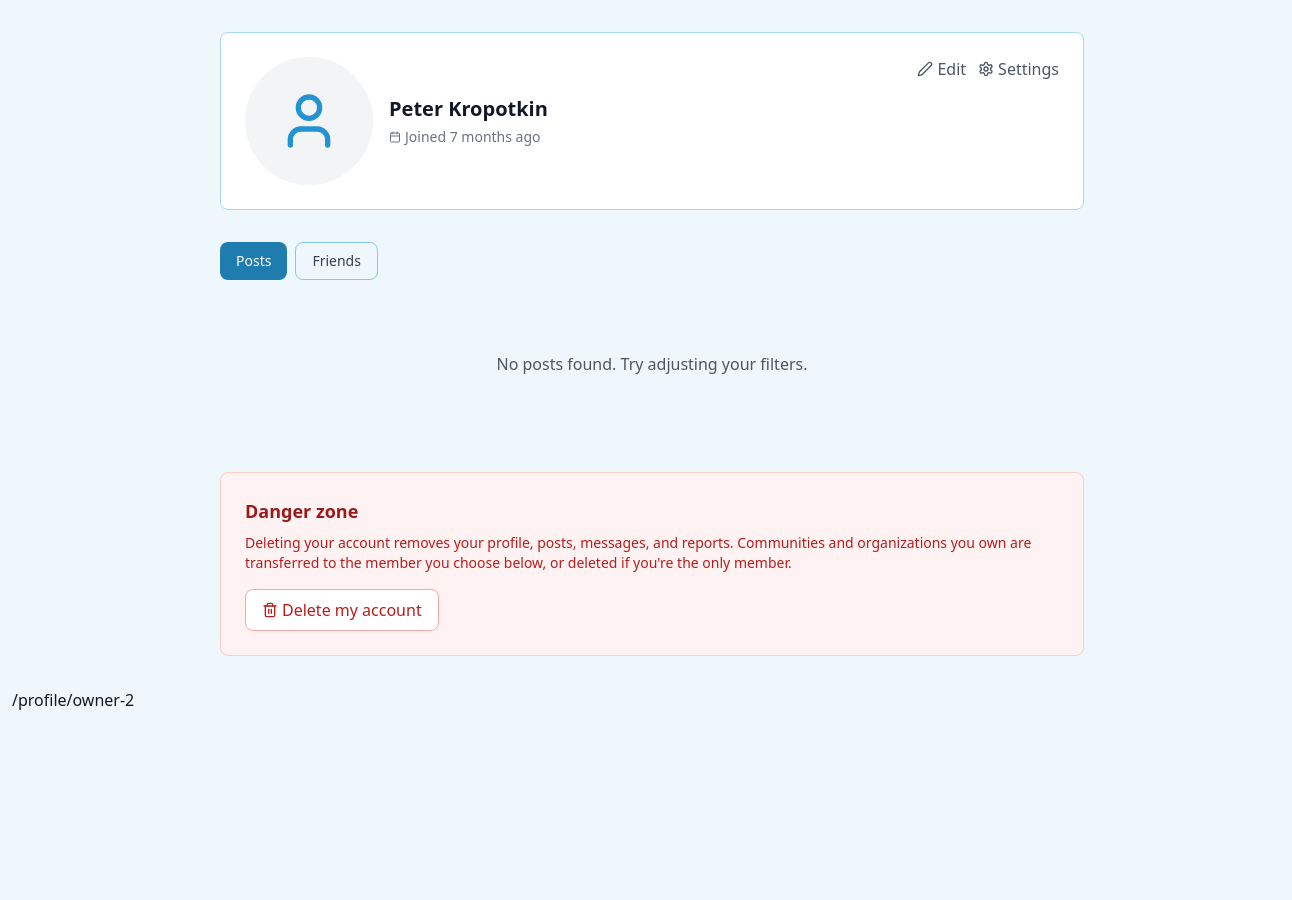
Scenario: ProfilePage delete account › disables the confirm button while the request is in flight
Click the button "Delete my account" at (342, 610), box [245,589,439,631]
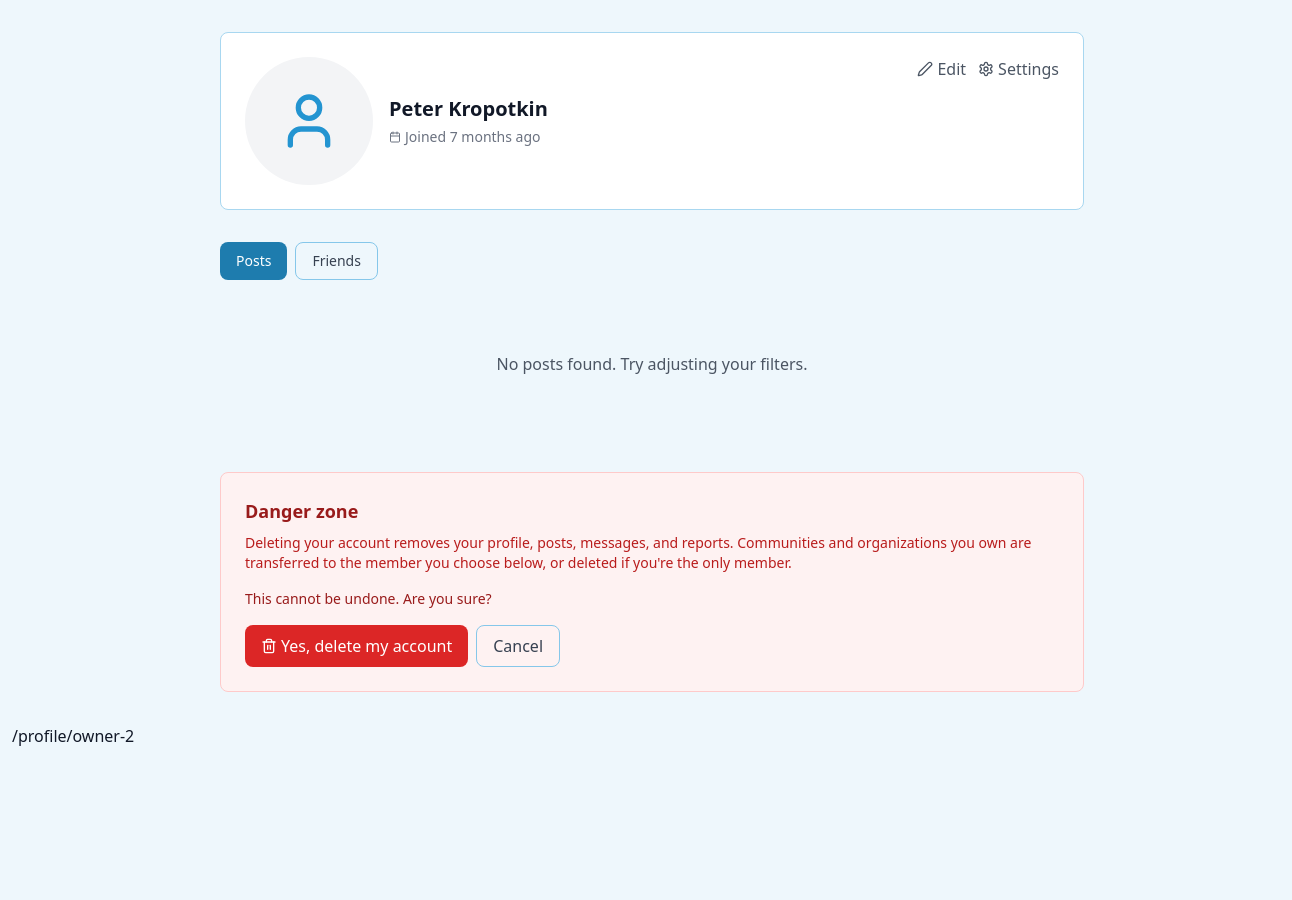
Click the button "Yes, delete my account" at (357, 646), box [245,625,468,667]
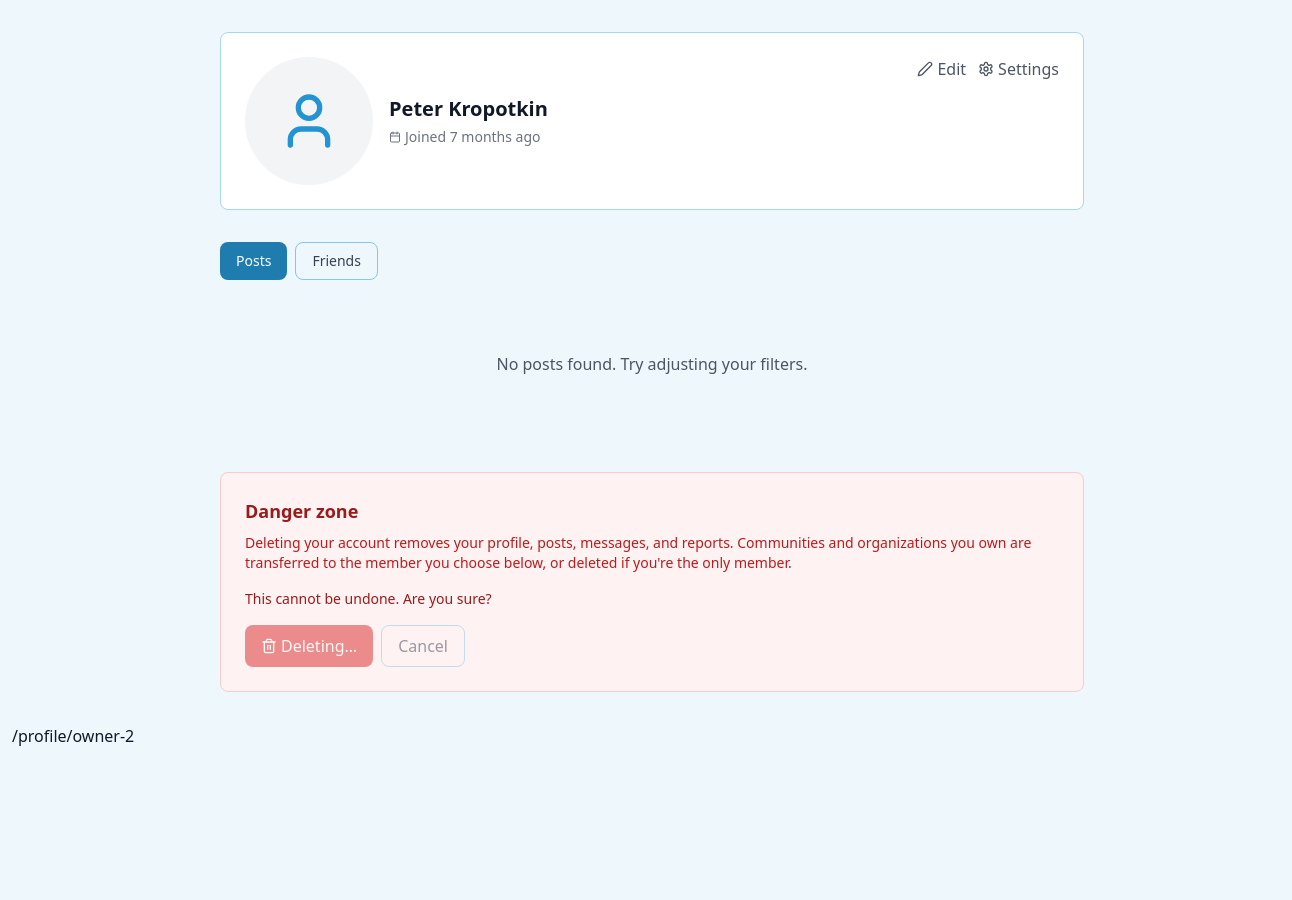
Now the button named "yes, delete my account" is disabled, box [245,625,373,667]
Now the button named "yes, delete my account" shows "Deleting", box [245,625,373,667]
